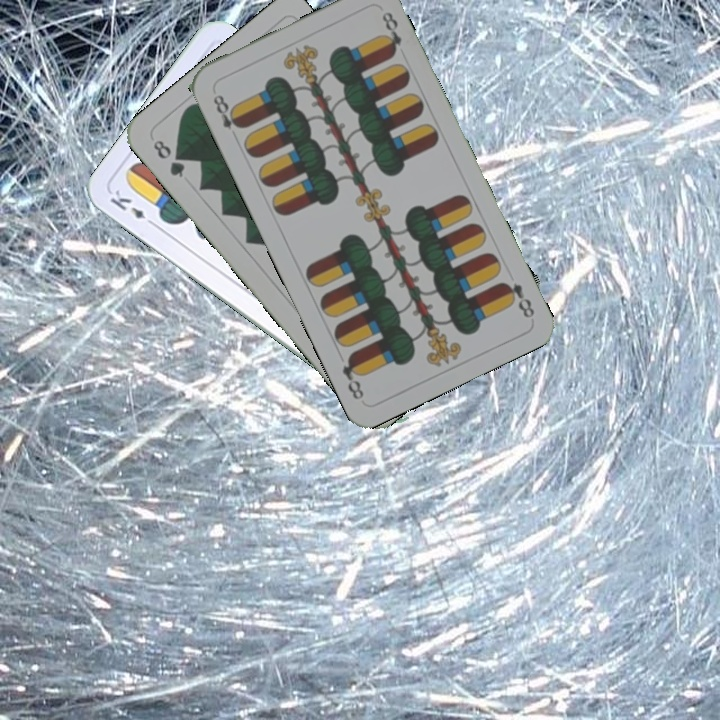E8: (209, 90, 246, 142), (497, 278, 537, 321)
EK: (106, 185, 159, 229)
G8: (148, 135, 188, 181)
